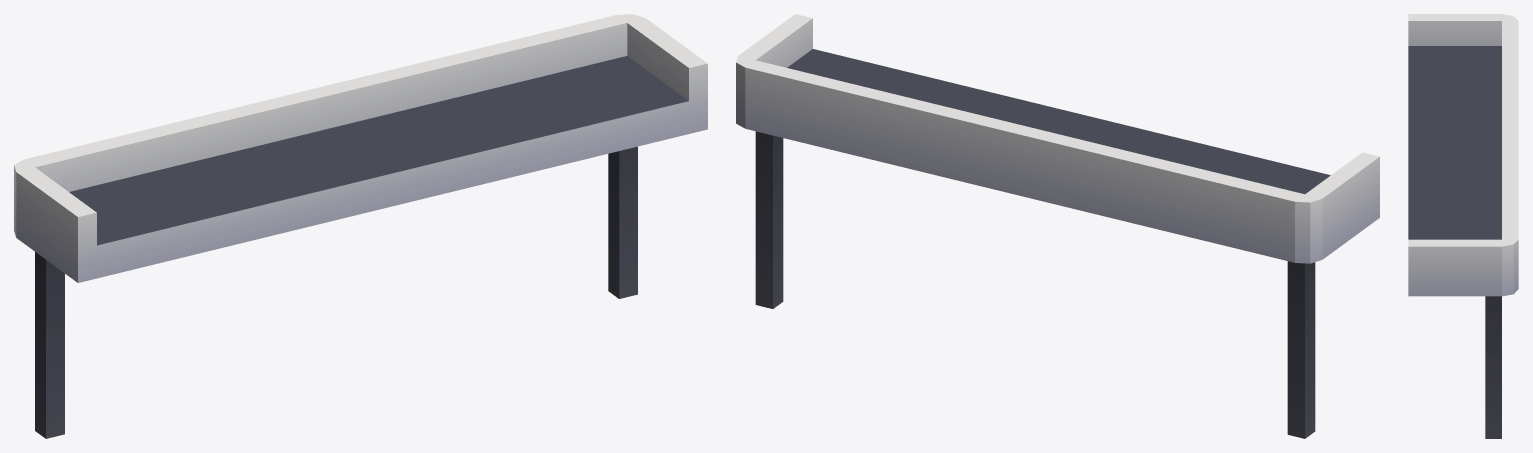
The model's file is commercial__detail-overhang-wide.glb.
3 renders of one model, left to right at view 1: azimuth 30°, elevation 25°; view 2: azimuth 150°, elevation 25°; view 3: azimuth 270°, elevation 25°, orthographic. The views are drawn at different scales.
Visible parts, largest first — view 1: detail-overhang-wide; view 2: detail-overhang-wide; view 3: detail-overhang-wide.
Boxes of the visible parts, <box> form: detail-overhang-wide: <box>14,14,707,438</box>; detail-overhang-wide: <box>736,14,1379,438</box>; detail-overhang-wide: <box>1408,14,1518,438</box>.
Size of the model in its own units: 1 by 0.3999 by 0.2.
1 material, 1 textured.
